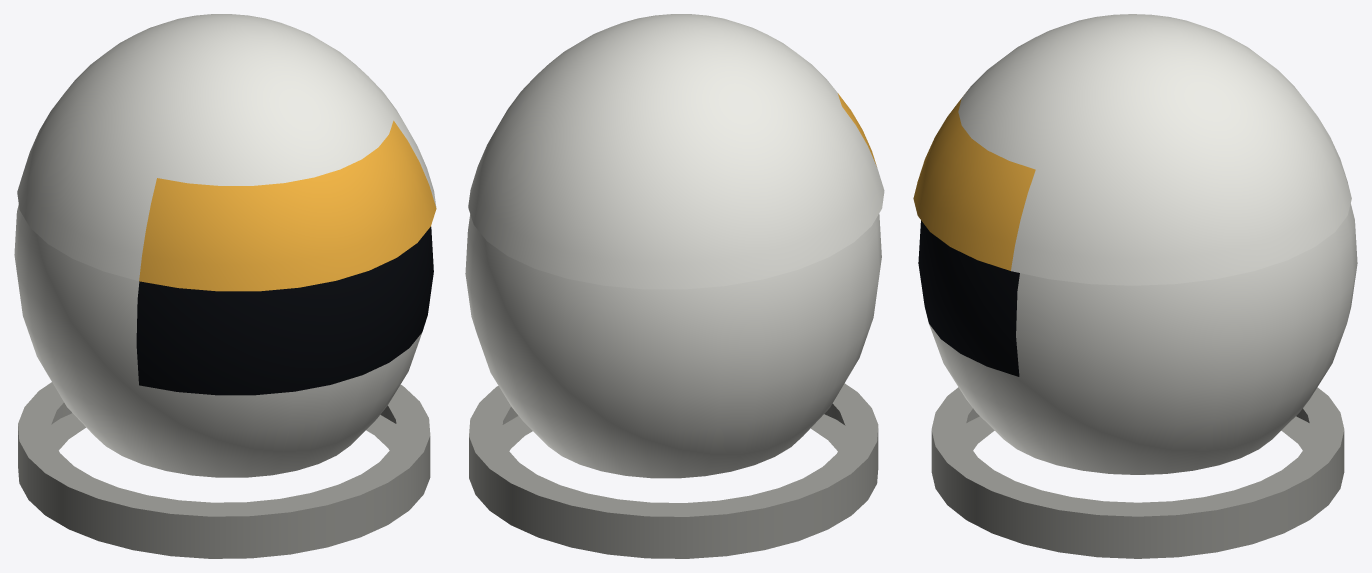
The model's file is helmet_berkut.glb.
3 renders of one model, left to right at view 1: azimuth 30°, elevation 25°; view 2: azimuth 150°, elevation 25°; view 3: azimuth 270°, elevation 25°, orthographic.
Parts seen in each view (by area): view 1: model; view 2: model; view 3: model.
Part boxes in pixels (<box>): model: <box>14,14,436,558</box>; model: <box>465,14,884,558</box>; model: <box>913,14,1357,558</box>.
Size of the model in its own units: 0.31 by 0.365 by 0.3335.
Materials: 1 (1 with a texture image).
